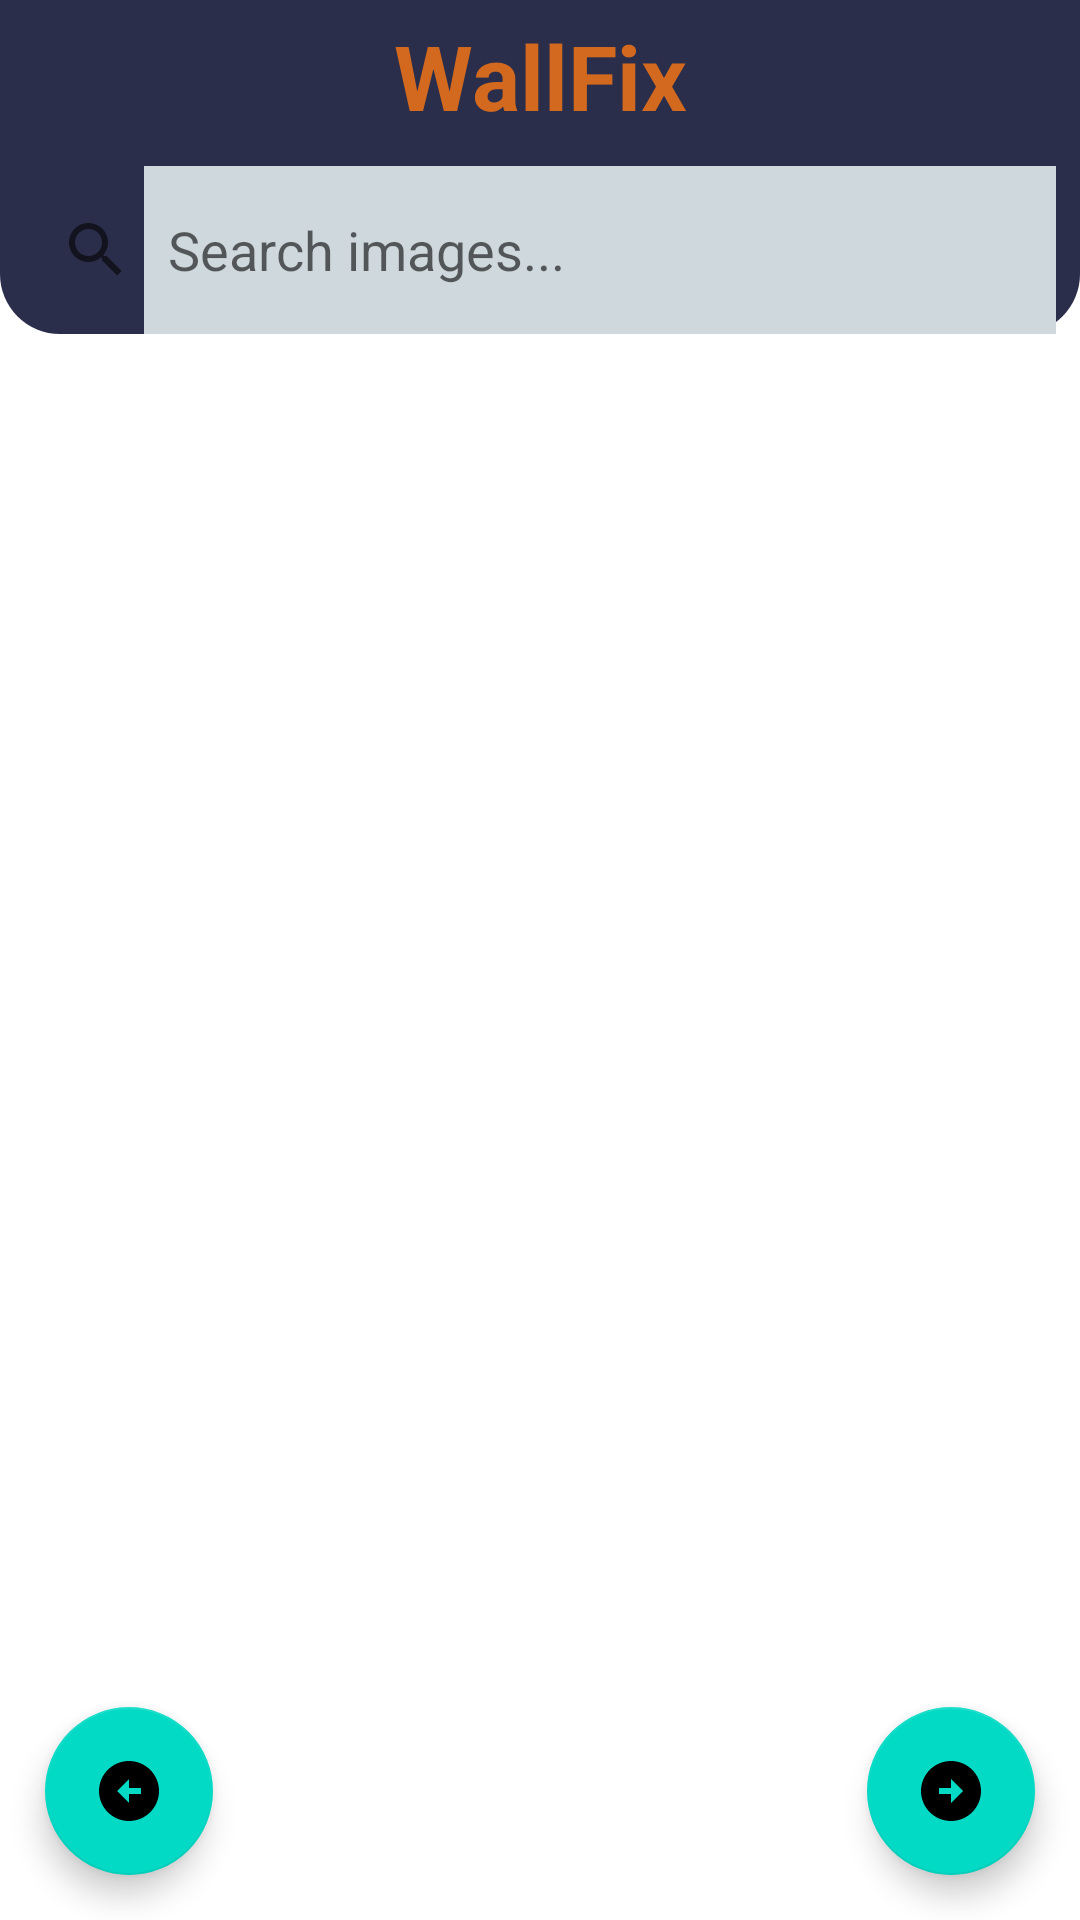

Named icons in this screenshot (1080x1920) and their centers, (x,y):
onfabnext: (951,1791)
onfabprevious: (129,1791)
